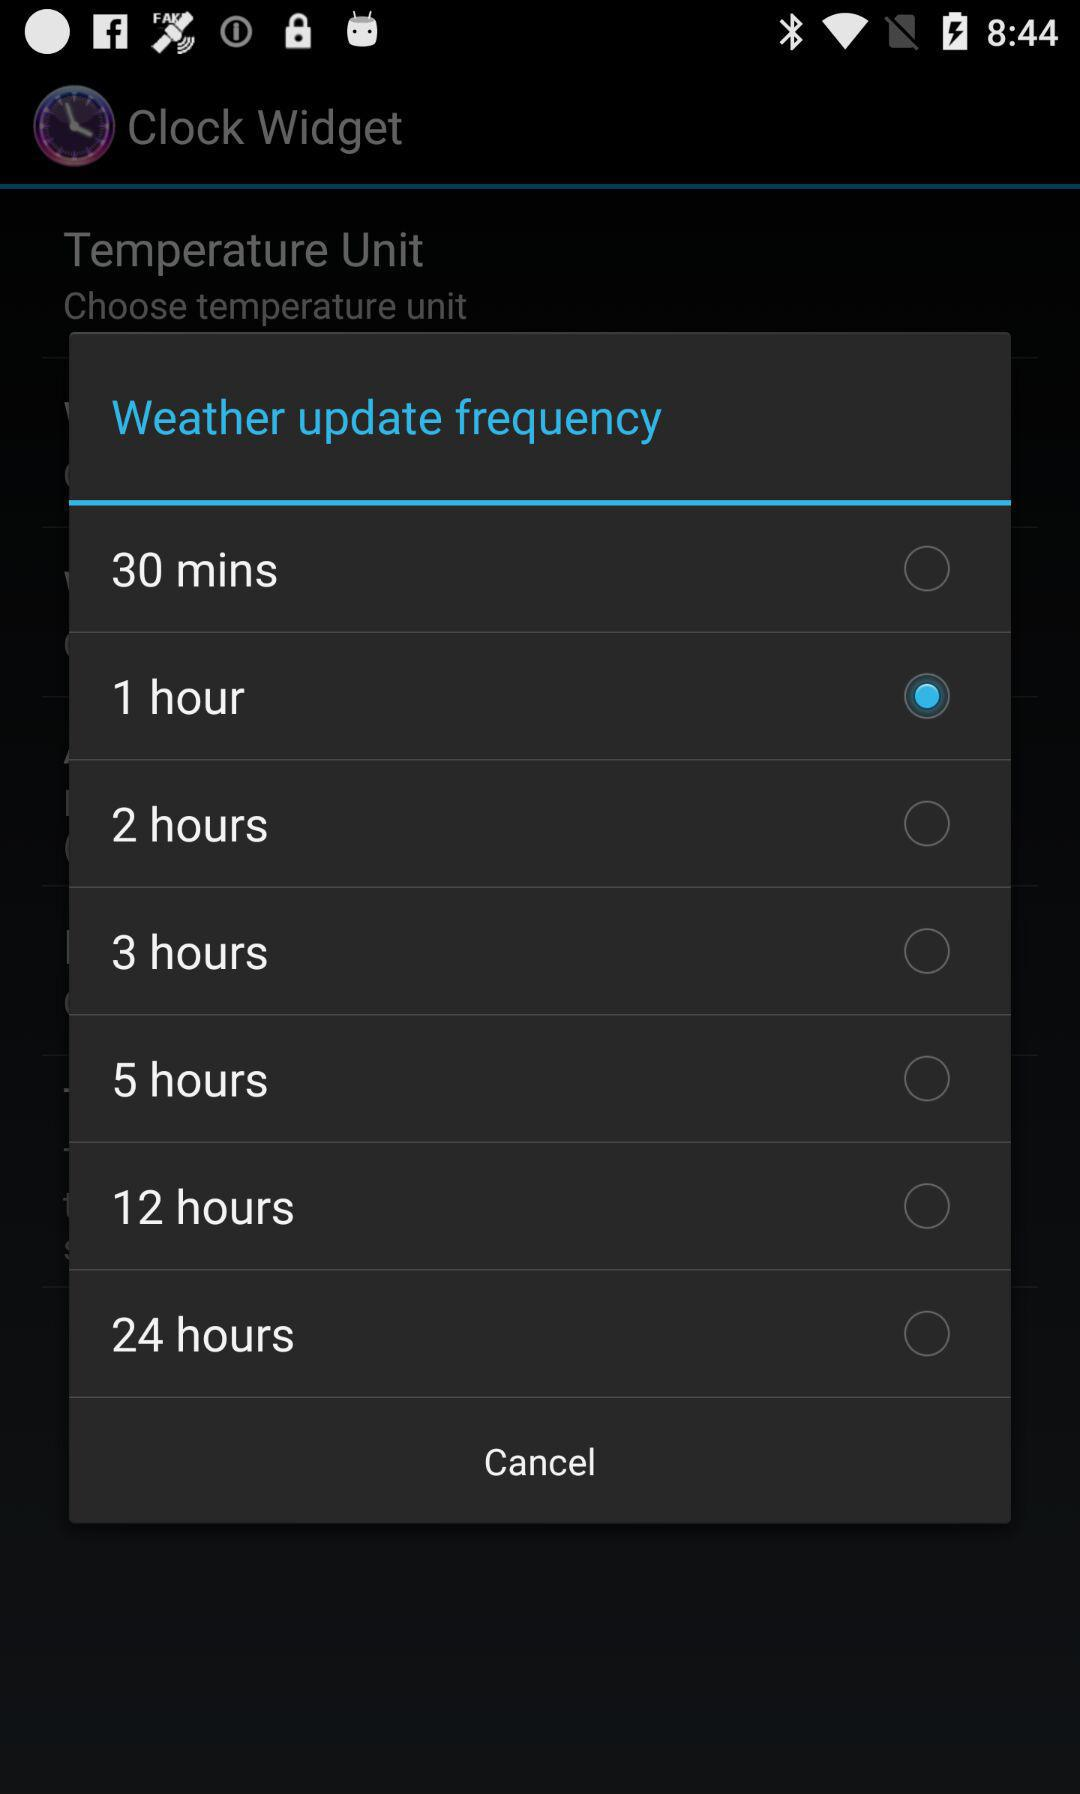CheckedTextView: (111, 545, 952, 595), (113, 800, 952, 850), (113, 926, 952, 976), (115, 671, 952, 721), (111, 1310, 951, 1358), (114, 1181, 952, 1230), (114, 1055, 951, 1103)
Image: (33, 86, 117, 169)
Modal: (69, 332, 1012, 1524)
Text: (111, 397, 664, 445), (64, 232, 424, 278), (65, 292, 468, 328), (129, 108, 404, 156), (111, 1315, 295, 1354), (114, 1187, 295, 1226), (113, 805, 269, 844), (111, 551, 278, 588), (113, 932, 268, 971), (114, 1060, 268, 1099), (115, 677, 246, 716)
TextButton: (69, 1395, 1012, 1524)
UpperTaskBar: (1, 1, 1080, 64)
